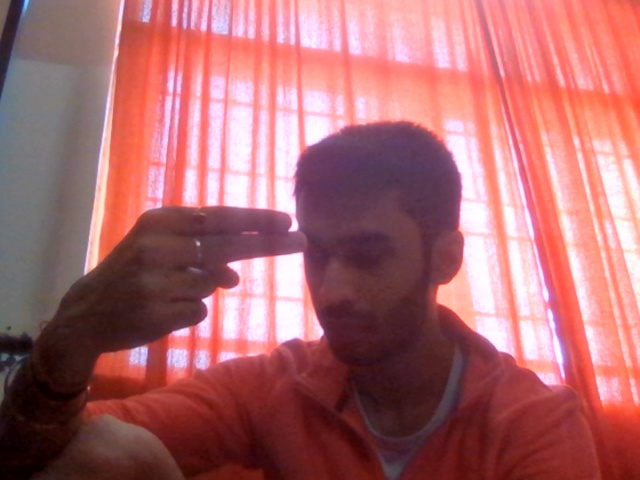H: (36, 187, 308, 379)
